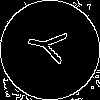Y: (25, 25, 76, 68)
